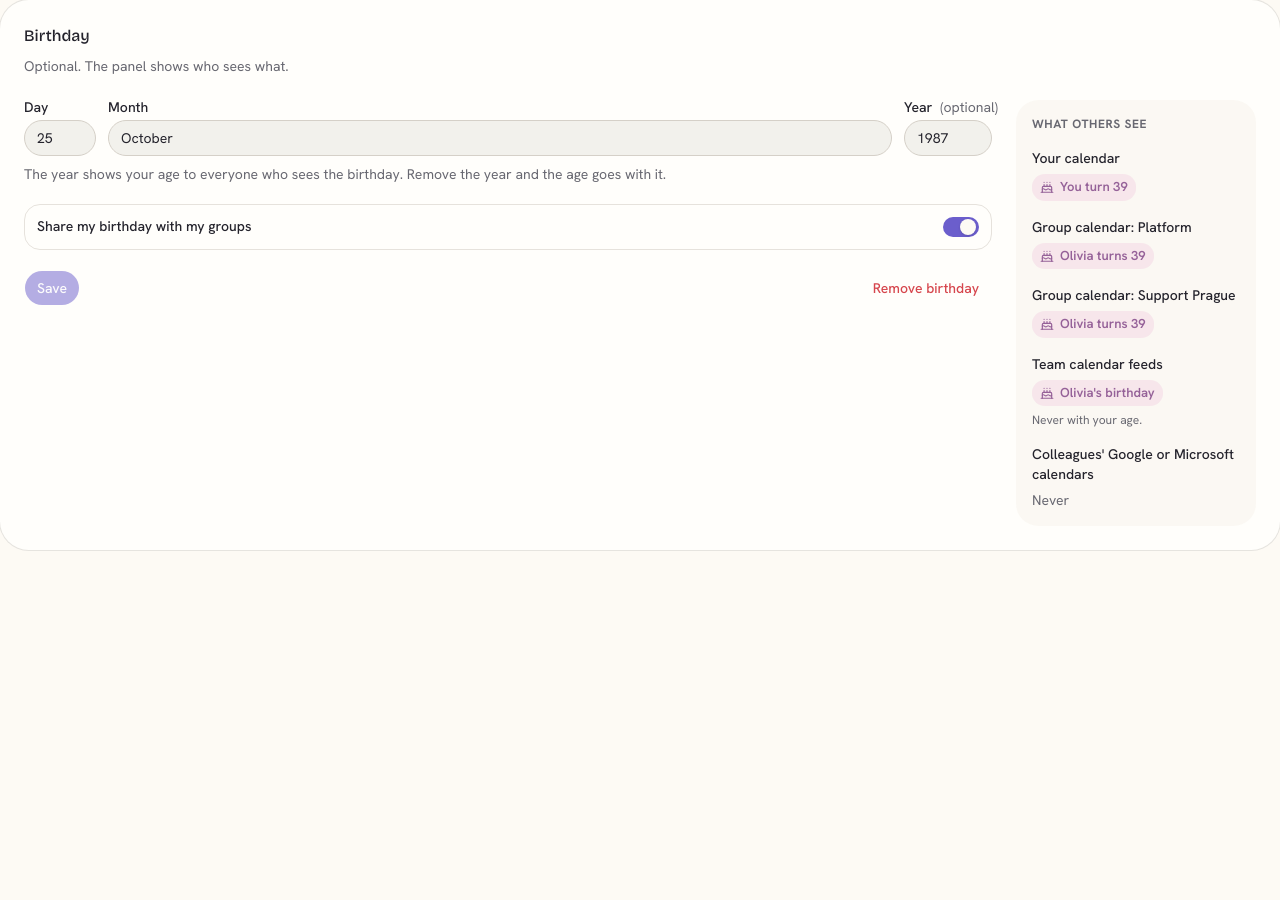
BirthdayCard › drops the age from the panel and the save when the year is removed
This screenshot has width=1280, height=900.
Check: the text "You turn 39" is shown, box [1032,174,1136,201]
Clear the field labelled "Year (optional)": (948, 138) [904,120,992,156]
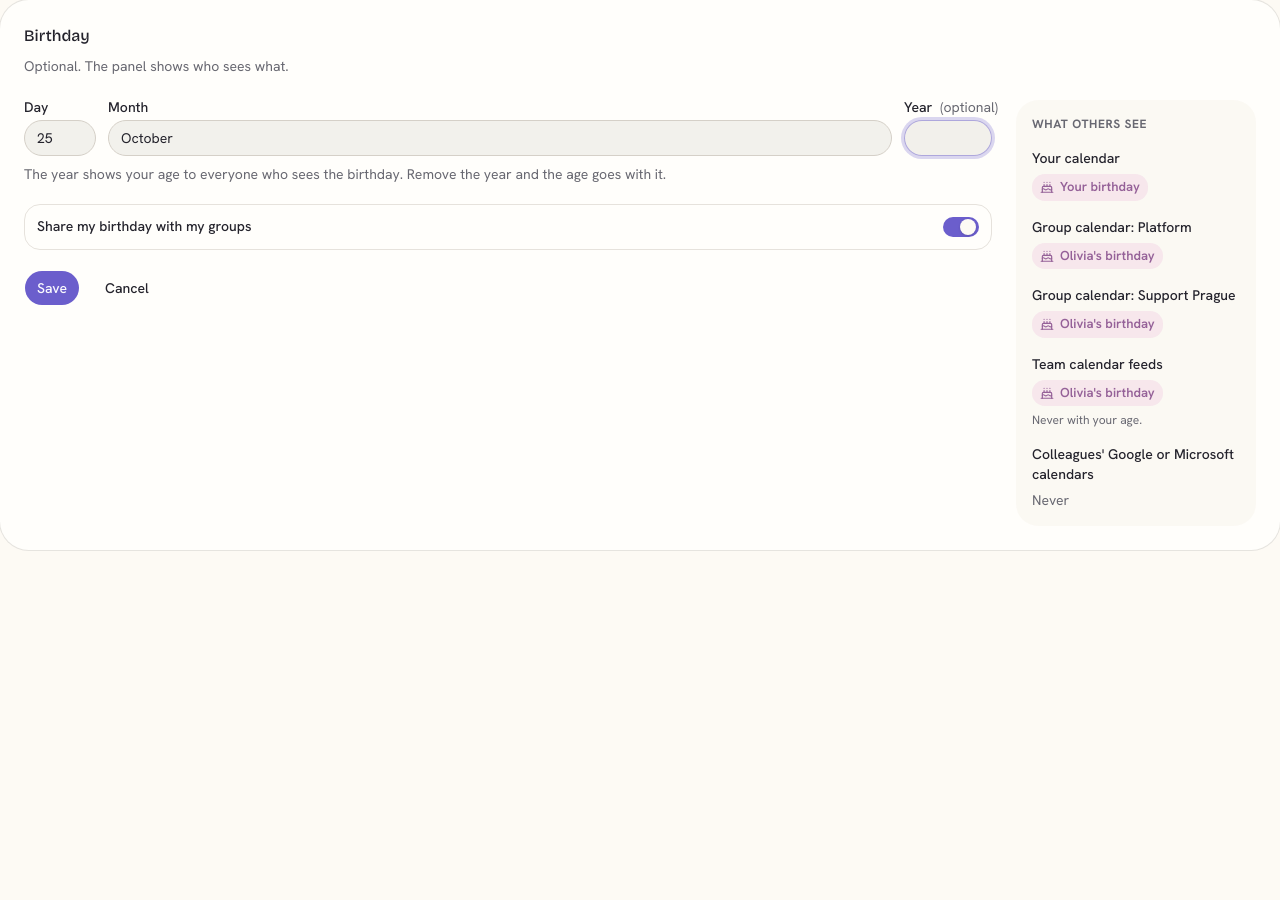
Check: the text "39" is gone
Check: the text "Your birthday" is shown, box [1032,174,1148,201]
Check: the text "Olivia's birthday" below "Group calendar: Platform" is shown, box [1060,247,1155,264]
Click the button "Save": click(52, 288) [24,270,80,306]
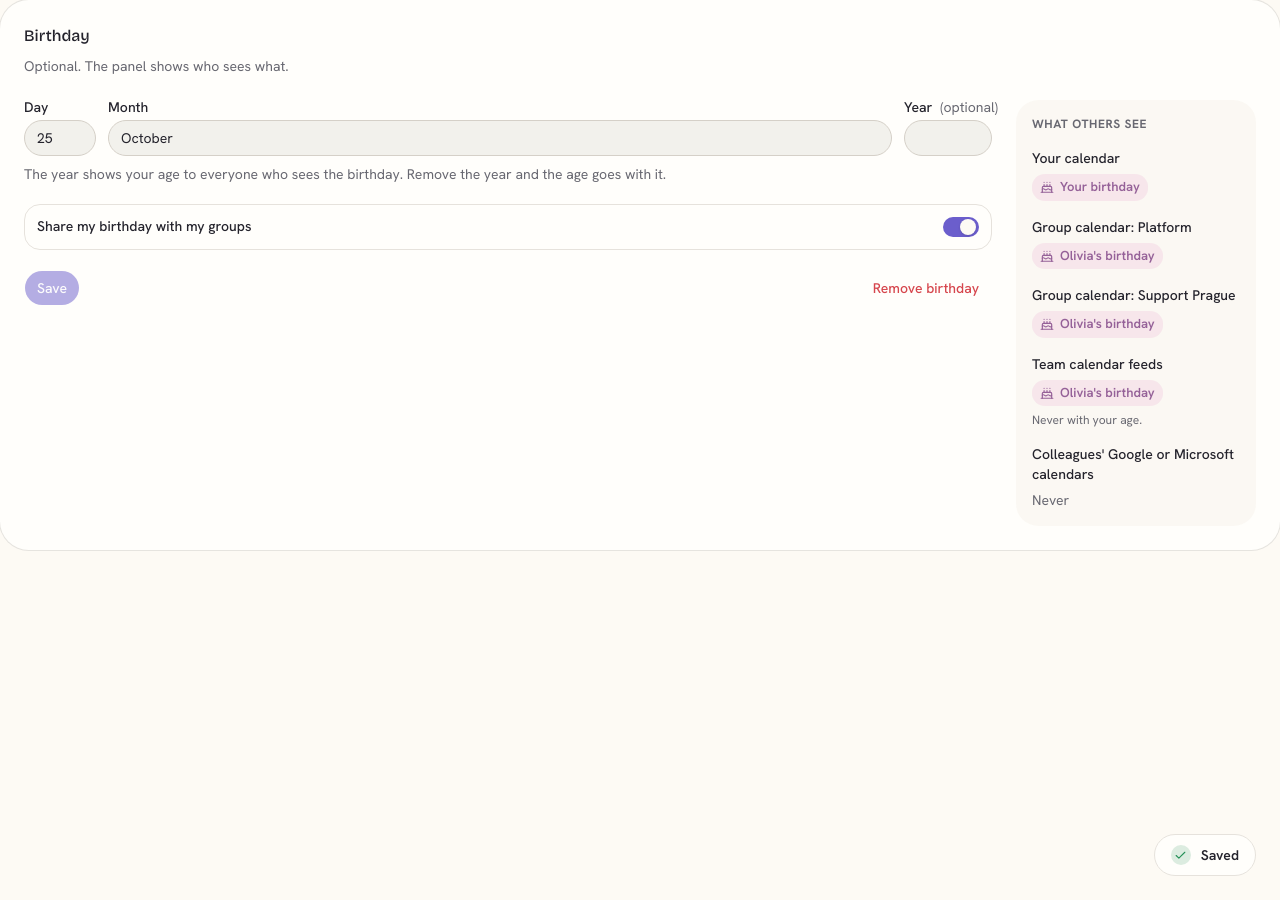
Check: the text "39" is not shown
Check: the text "Saved" is shown, box [1154,834,1256,876]
